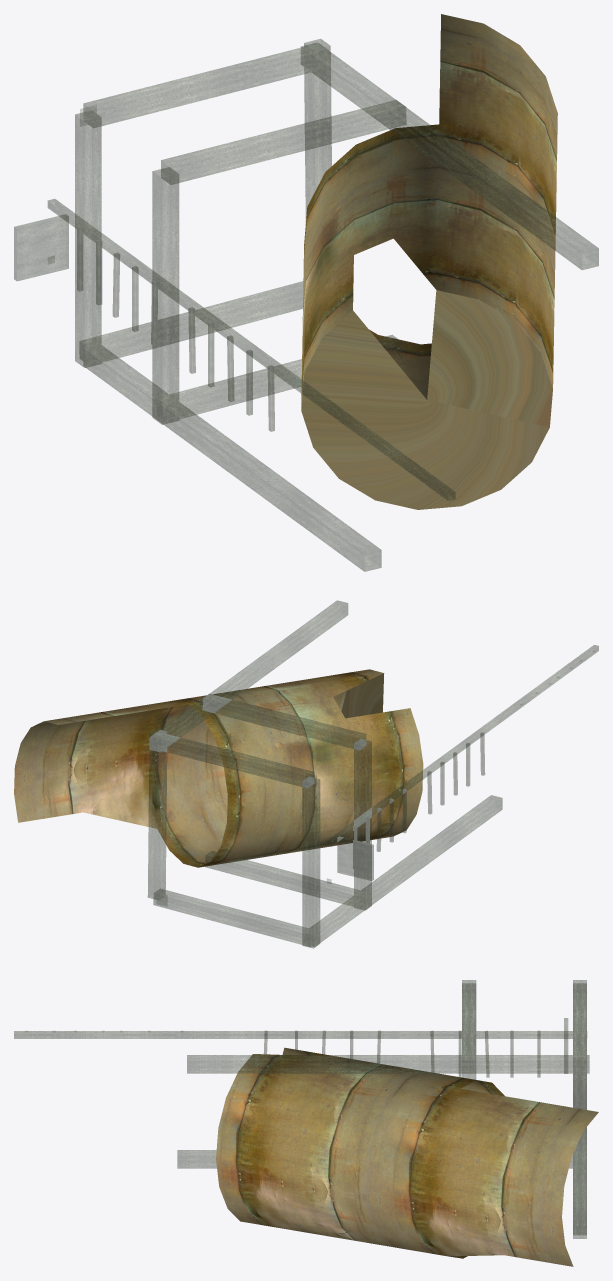
File: siloDestruido.glb
3 renders of one model, top to bottom at view 1: azimuth 30°, elevation 25°; view 2: azimuth 150°, elevation 25°; view 3: azimuth 270°, elevation 25°, orthographic. The views are drawn at different scales.
Parts seen in each view (by area): view 1: Silo; view 2: Silo; view 3: Silo.
Boxes of the visible parts, x1,y1,x2,y2 form: Silo: (14,14,598,571); Silo: (14,600,598,948); Silo: (14,980,598,1266).
Bounding box in the file's own units: 2.21 × 1.1 × 2.91.
Materials: 32 (32 with a texture image).
